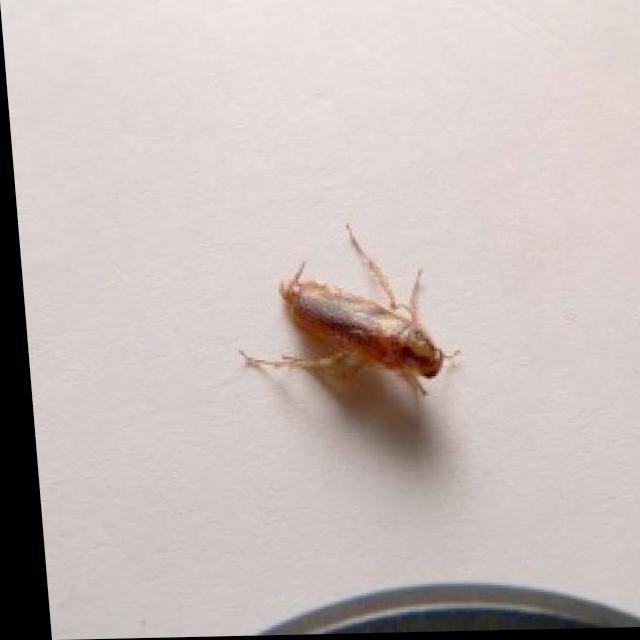cockroach: (235, 220, 463, 412)
